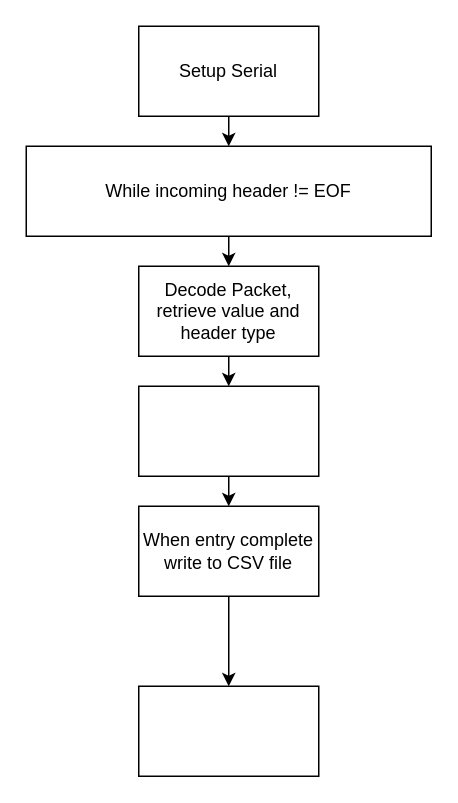
The diagram is 458 pixels wide and 803 high, and some of its shapes have lost their labels. The centre of each missing label's shape, as x and y in pixels:
Once EOF, graph CSV files using MATLAB for python: [228,730]
Write value to entry: [228,430]
